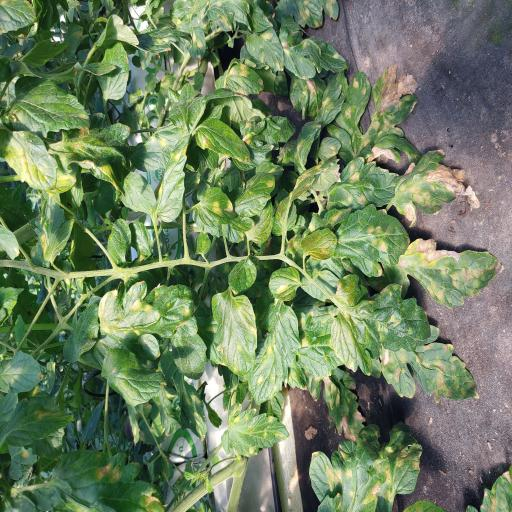Leaf Mold: (308, 421, 423, 512), (330, 274, 432, 376), (326, 62, 419, 162), (383, 238, 504, 310), (98, 280, 198, 366), (380, 325, 479, 402), (390, 149, 480, 229), (49, 450, 161, 512), (58, 112, 131, 198), (335, 204, 410, 277), (8, 75, 91, 138), (206, 286, 258, 380), (287, 312, 344, 392), (0, 389, 74, 449), (257, 297, 297, 402), (326, 156, 400, 211), (93, 14, 193, 53), (279, 25, 349, 80), (0, 124, 57, 191), (102, 348, 166, 407), (221, 403, 289, 457), (151, 133, 191, 224), (28, 190, 74, 263), (195, 103, 251, 162), (226, 172, 276, 231), (170, 315, 208, 381), (277, 120, 321, 168), (289, 67, 327, 121), (290, 162, 341, 201), (274, 0, 339, 29), (178, 381, 208, 442), (196, 186, 237, 228), (246, 27, 284, 72), (316, 71, 345, 128), (152, 385, 181, 437), (207, 0, 252, 33), (227, 63, 264, 96), (300, 228, 338, 260), (268, 267, 301, 302), (228, 257, 257, 296), (124, 400, 140, 446), (189, 27, 206, 61), (319, 137, 341, 161)
